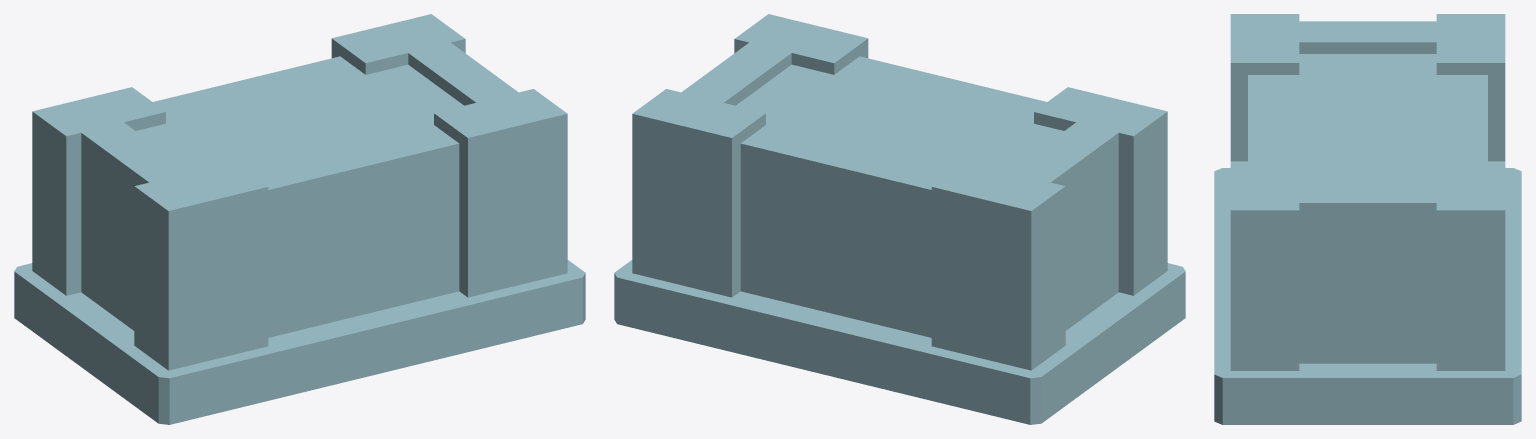
Rendered from altarStone.dae.
3 views of the same model, side by side, from view 1: azimuth 30°, elevation 25°; view 2: azimuth 150°, elevation 25°; view 3: azimuth 270°, elevation 25° (orthographic).
Parts seen in each view (by area): view 1: altarStone; view 2: altarStone; view 3: altarStone.
Boxes of the visible parts, x1=… form: altarStone: x1=14, y1=14, x2=585, y2=424; altarStone: x1=614, y1=14, x2=1185, y2=424; altarStone: x1=1214, y1=14, x2=1521, y2=424.
Size of the model in its own units: 1.06 by 0.4876 by 0.6532.
